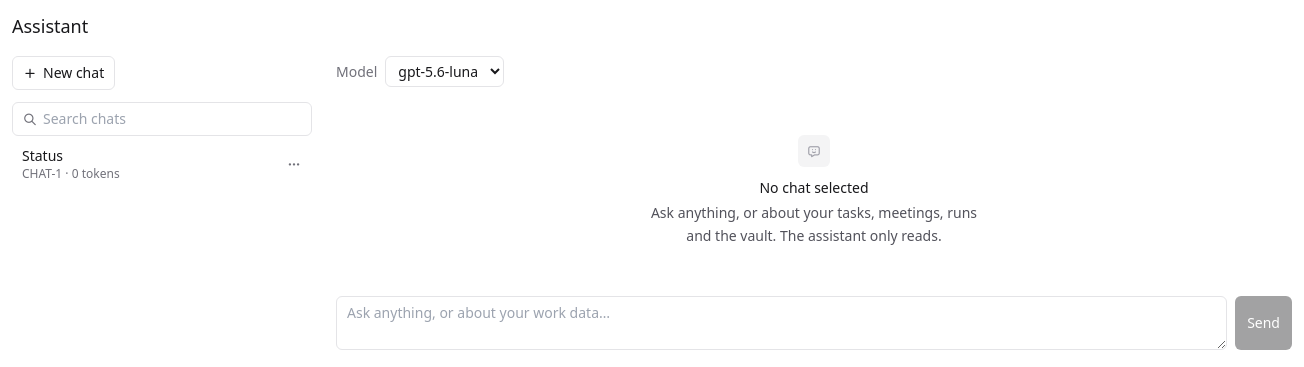
replies › renders `3 steps · 187 tokens` under a reply with 3 steps and usage 168 + 19
Click the button "Status CHAT-1 · 0 tokens" at (43, 156), box [12,140,276,188]
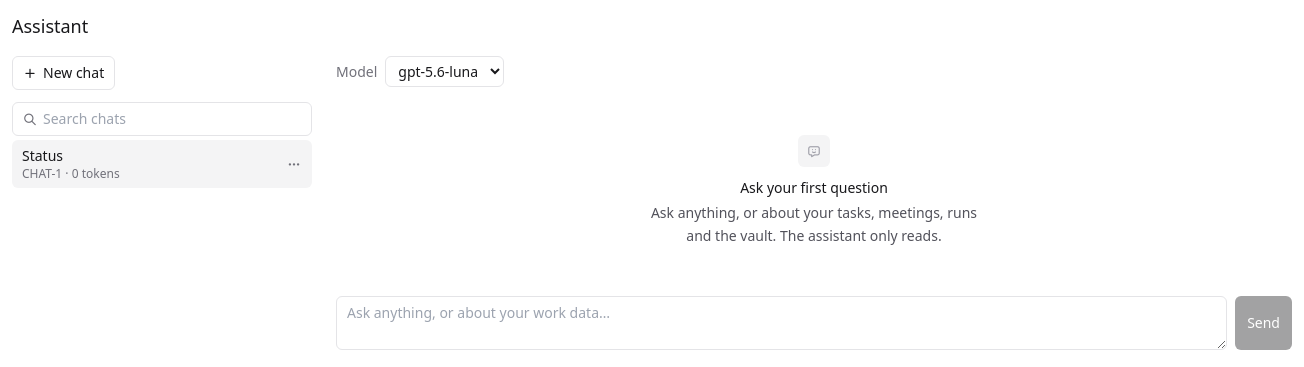
Type "what is TASK-1?" into the text box named "Message" at (782, 322), box [336,296,1227,350]
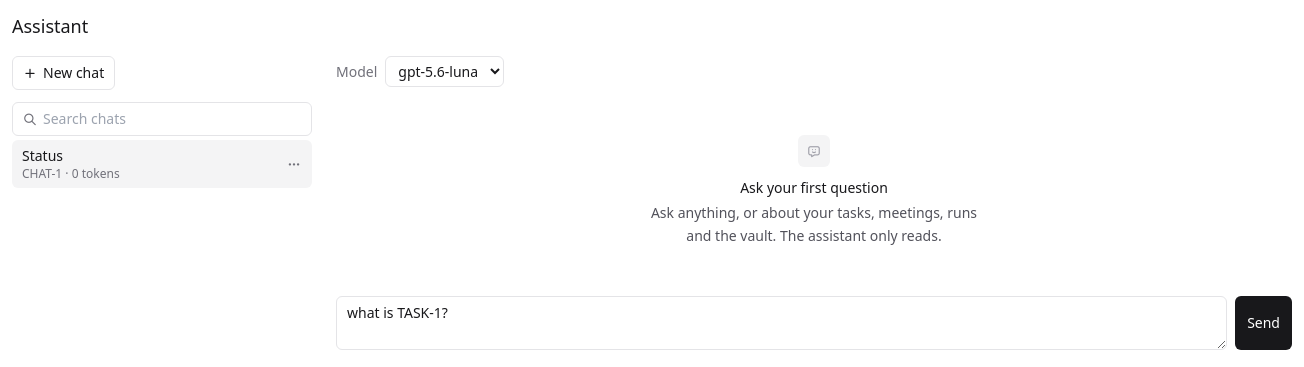
Click the button "Send" at (1264, 322), box [1235,296,1292,350]
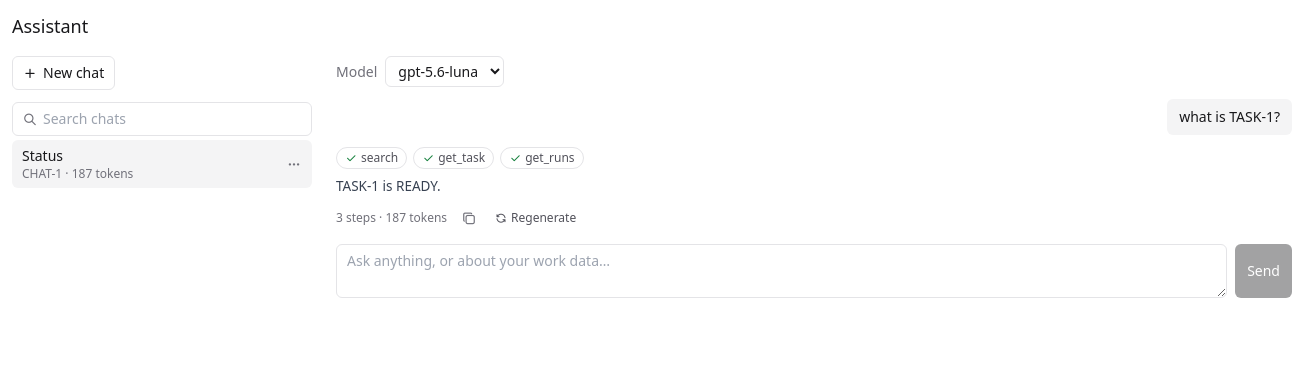
Now the text "3 steps · 187 tokens" is shown, box [336,210,447,226]
